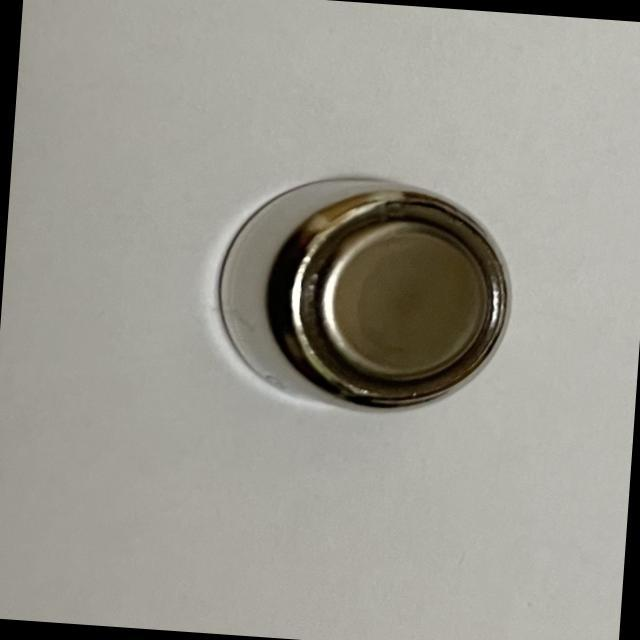COIN: (208, 165, 520, 422)
